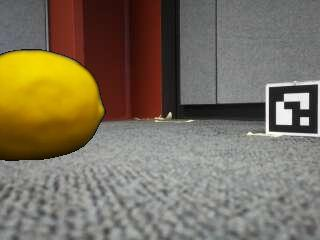lemon: (0, 50, 104, 161)
